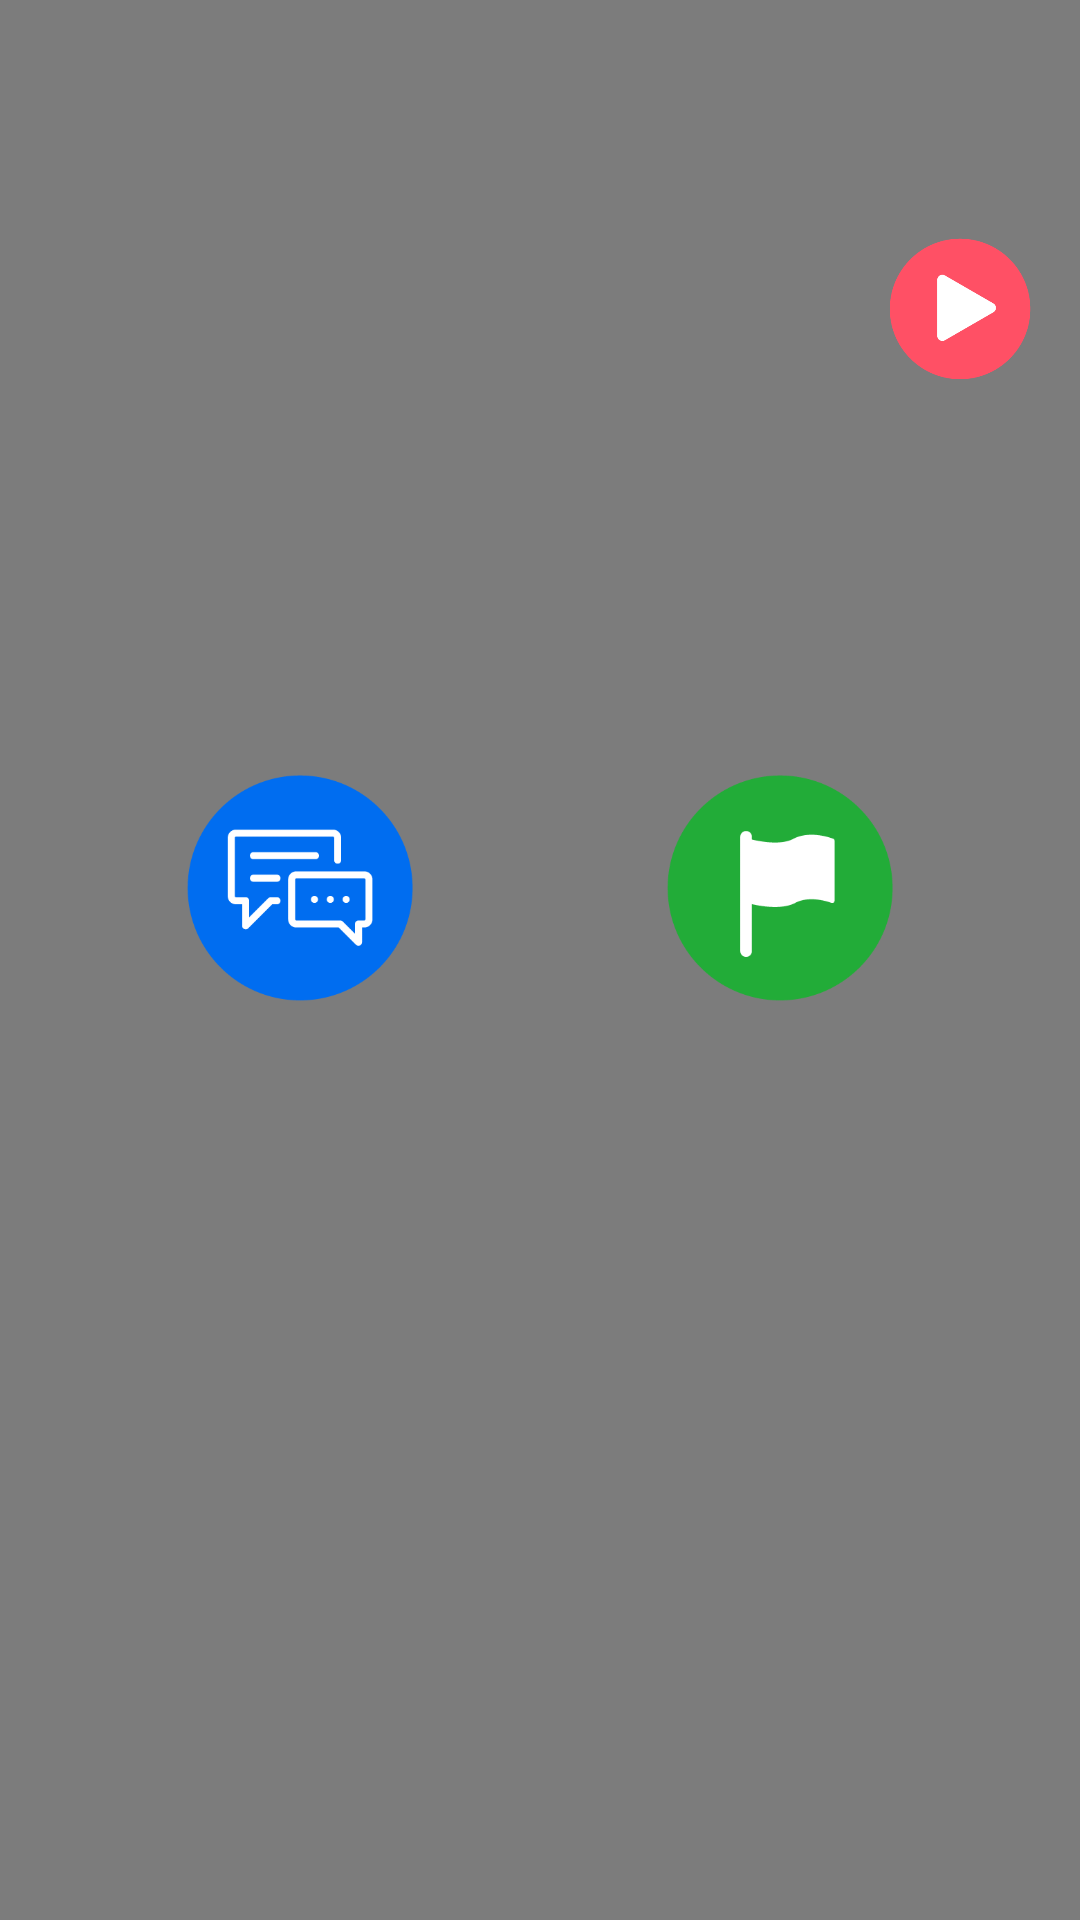

Icon bounding boxes for this 1080w x 1920h phone screenshot, format (x1, y1, x2, y2):
meetingpoint: (667, 775, 893, 1001)
message: (187, 775, 413, 1001)
start: (890, 238, 1031, 379)
